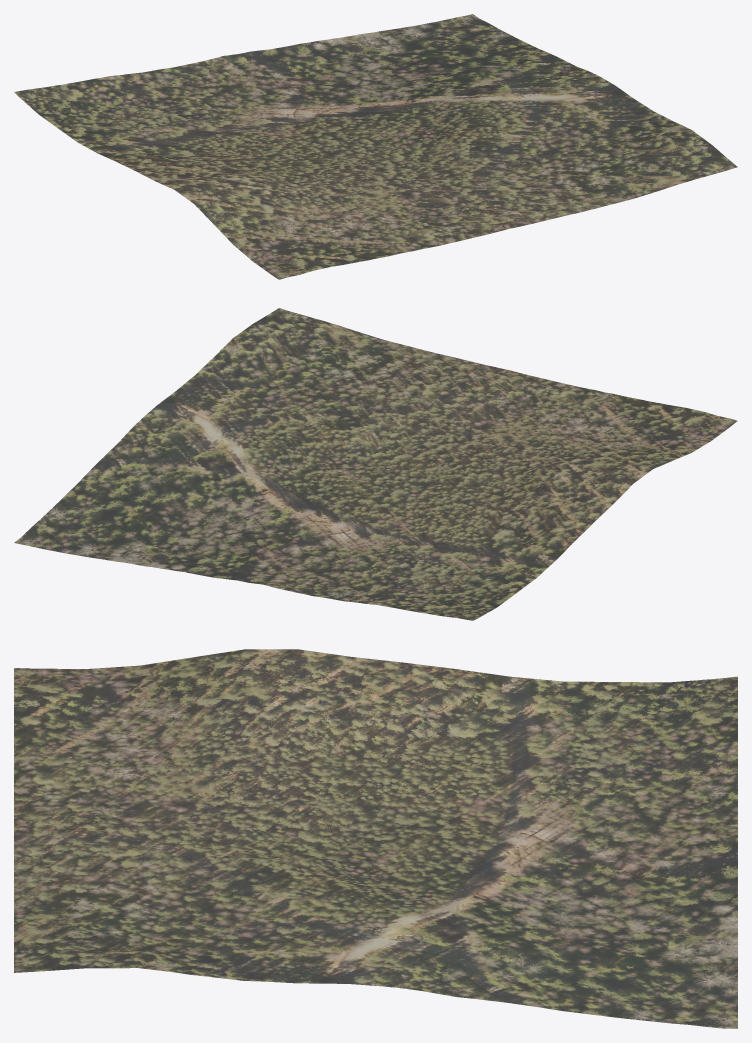
File: CM_Terrain_24490458_6822660.fbx
The picture shows the model from 3 angles, top to bottom: view 1: azimuth 30°, elevation 25°; view 2: azimuth 150°, elevation 25°; view 3: azimuth 270°, elevation 25°; orthographic projection. The views are drawn at different scales.
Parts seen in each view (by area): view 1: CM_Terrain_24490458_6822660_LOD0; view 2: CM_Terrain_24490458_6822660_LOD0; view 3: CM_Terrain_24490458_6822660_LOD0.
Boxes of the visible parts, left/top/right/bottom form: CM_Terrain_24490458_6822660_LOD0: left=14, top=14, right=737, bottom=279; CM_Terrain_24490458_6822660_LOD0: left=14, top=308, right=737, bottom=620; CM_Terrain_24490458_6822660_LOD0: left=14, top=649, right=737, bottom=1028.
Size of what is drawn, in the model's own units: 205 by 22.96 by 205.
